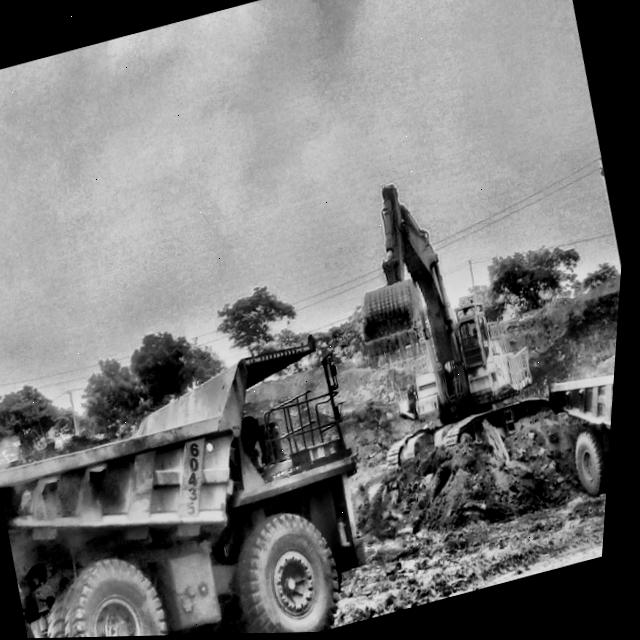dump_truck: (3, 338, 366, 639), (551, 373, 620, 499)
excavator: (368, 186, 556, 470)
